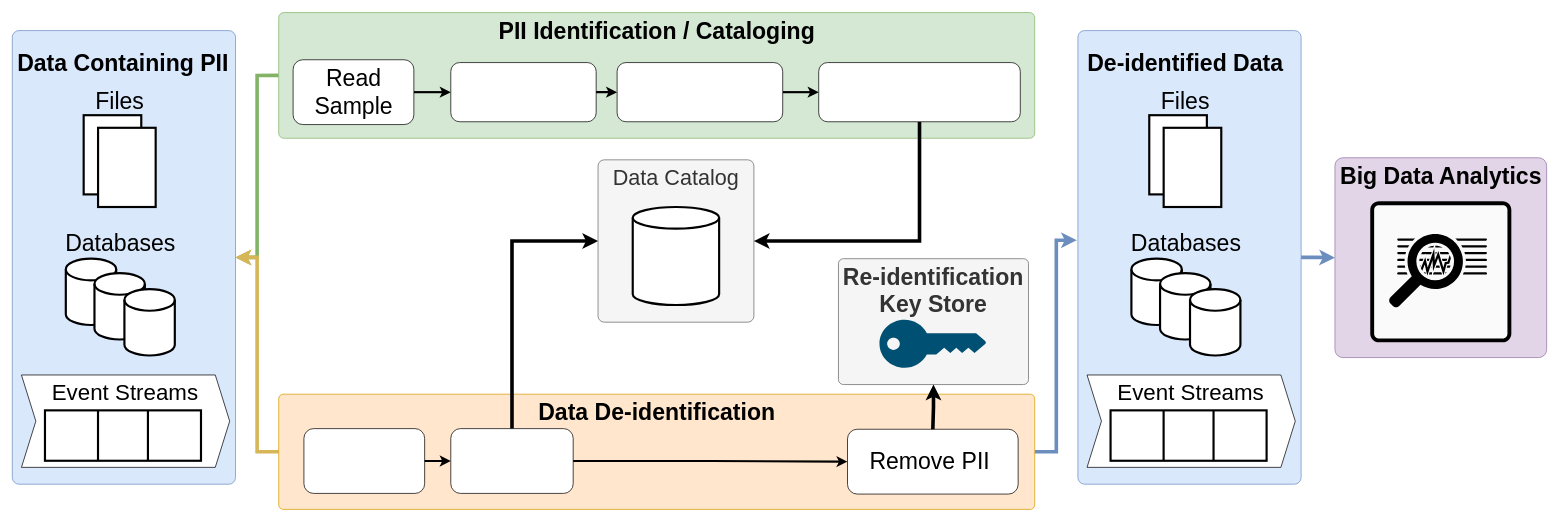
The diagram is 1560 pixels wide and 522 high, and some of its shapes have lost their labels. The centre of each missing label's shape, as x and y in pixels:
"Identify PII" goes at pixel 699 92.
"Inference Schema" goes at pixel 523 92.
"Read Data" goes at pixel 364 460.
"Retrieve Metadata" goes at pixel 511 460.
"Write Metadata to Catalog" goes at pixel 919 92.
